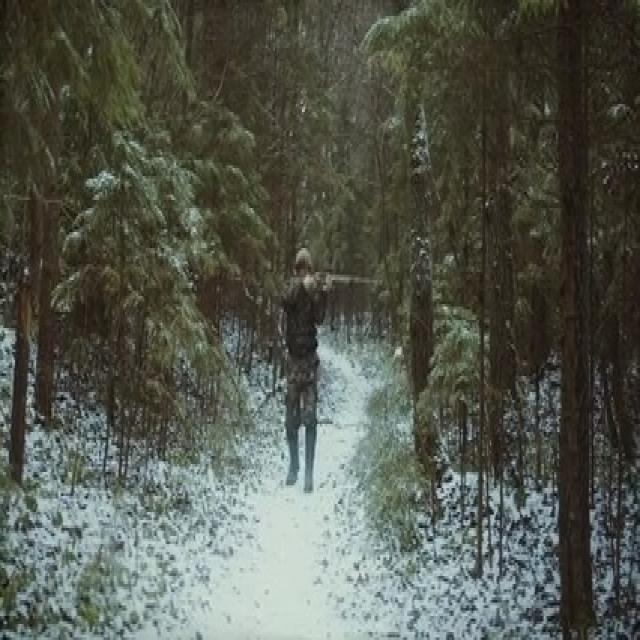Gun_Holder: (302, 273, 386, 300)
Person: (276, 244, 322, 489)
